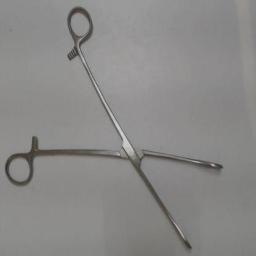Sponge Forceps: (2, 2, 234, 252)
